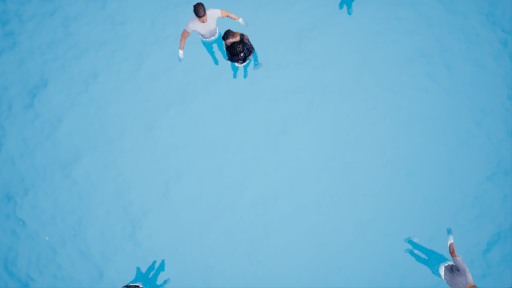person: (172, 1, 252, 67), (401, 229, 477, 288), (220, 29, 266, 82)
